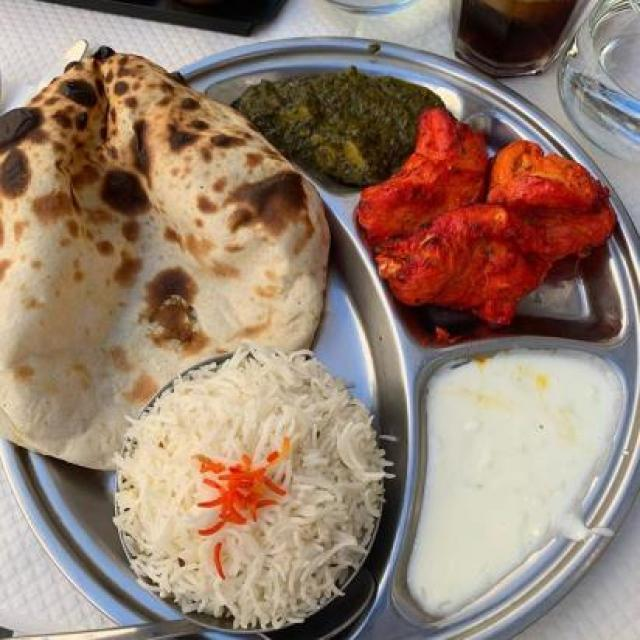Rice: (102, 345, 387, 626)
alooparatha-chapati: (0, 45, 290, 439)
